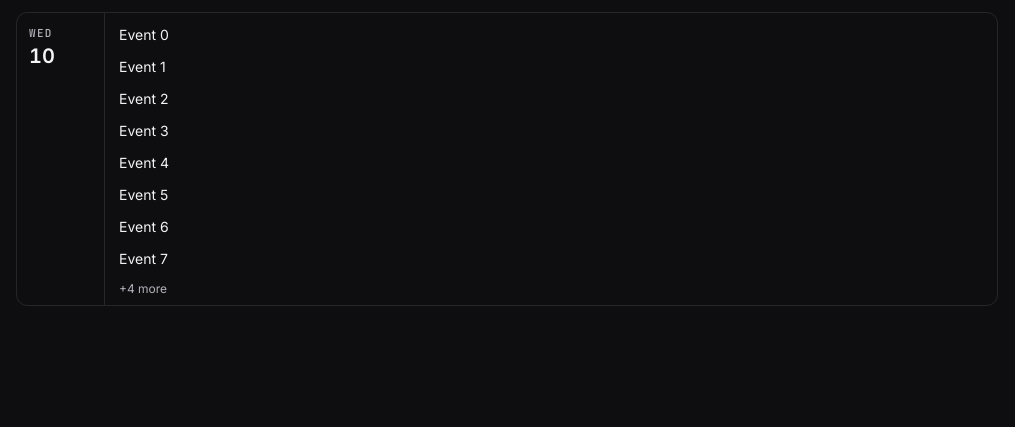
CalendarAgenda dense-day clamp › clamps a dense day to 8 items behind a +N more expander
The width and height of the screenshot is (1015, 427).
Click the button "+4 more".
click(143, 289)  # box [111, 279, 175, 299]
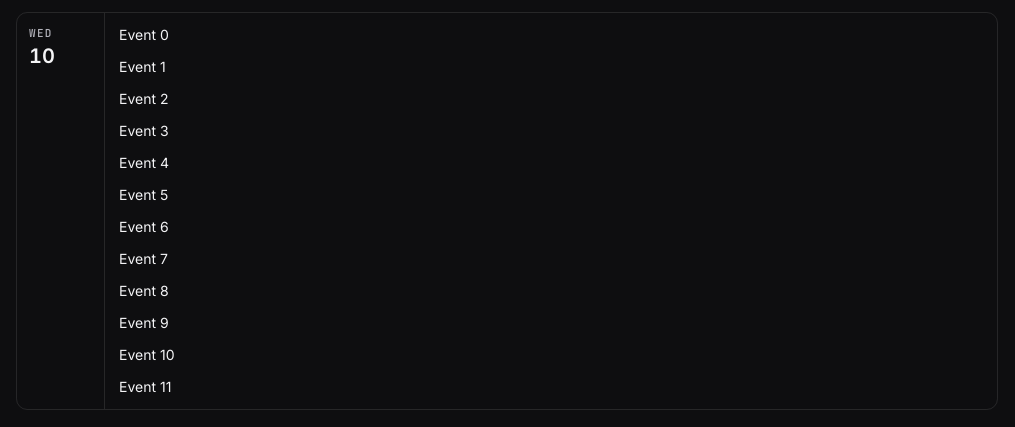
Expected: the number of list items with test id "agenda-item" is 12
